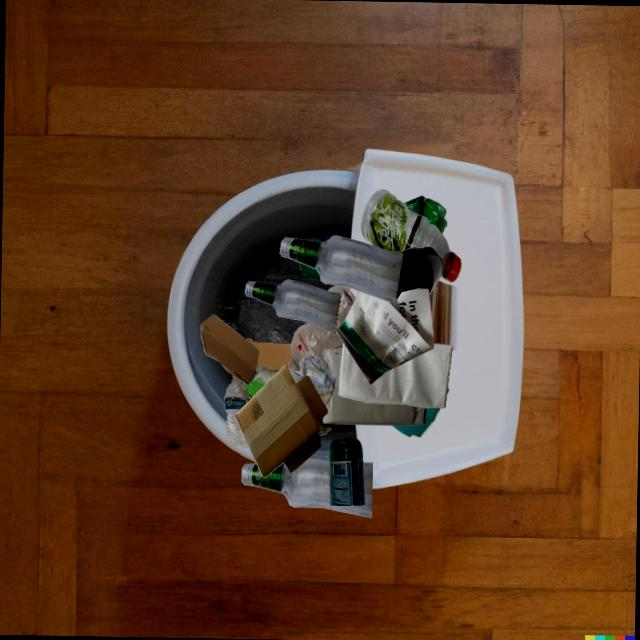cardboard: (235, 364, 328, 476), (200, 314, 261, 385), (290, 344, 336, 428), (242, 338, 291, 399)
glass: (279, 235, 403, 304), (241, 455, 373, 518), (244, 279, 341, 332), (328, 438, 365, 506), (396, 247, 442, 299)
paper: (331, 288, 434, 384), (322, 347, 426, 425), (338, 342, 452, 407), (290, 355, 335, 405), (390, 407, 440, 437)
plastic: (360, 189, 461, 282), (286, 323, 342, 371), (224, 375, 250, 448), (403, 195, 447, 234), (327, 285, 355, 327), (358, 290, 396, 304), (299, 262, 320, 279)
